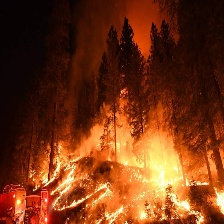fire: (37, 156, 111, 207), (108, 205, 210, 224), (133, 164, 186, 192), (185, 175, 212, 191), (213, 184, 224, 211)
smoke: (78, 7, 171, 53), (104, 109, 179, 156)
